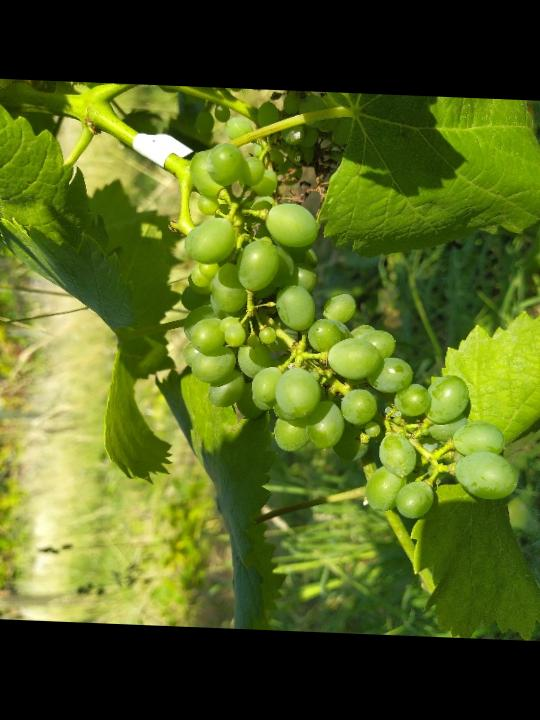grape: (163, 135, 540, 529)
